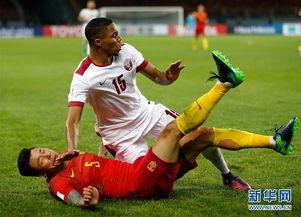bending: (67, 18, 186, 155)
down: (4, 68, 280, 205)
